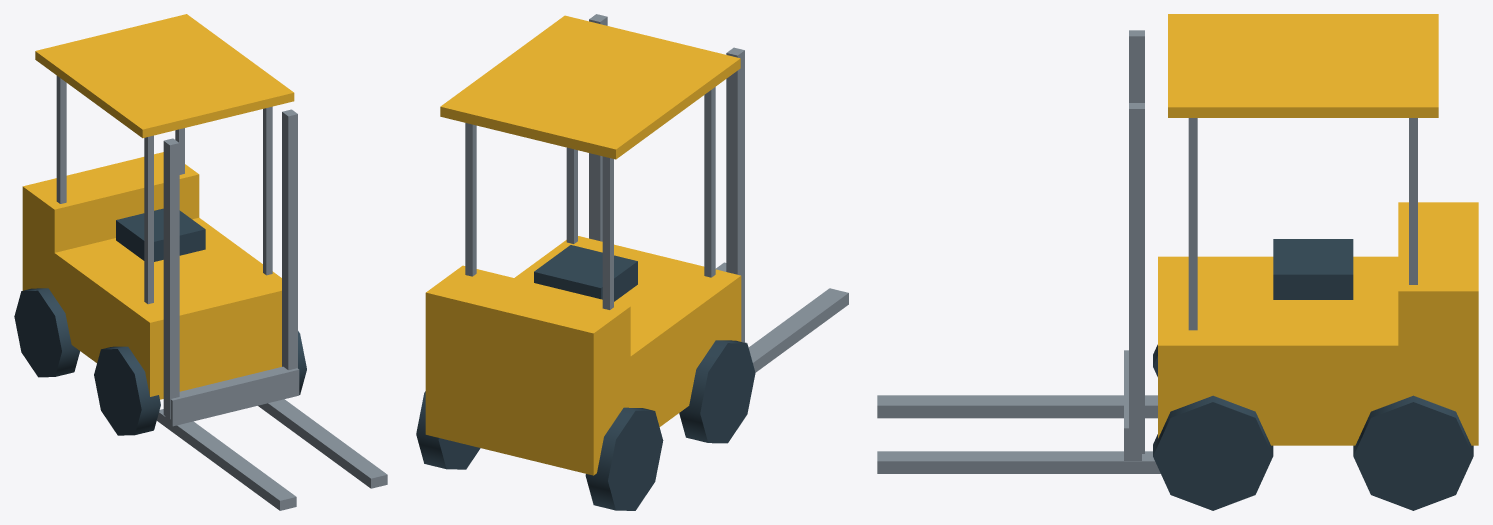
The model's file is forklift.v1.low.glb.
The picture shows the model from 3 angles, left to right: view 1: azimuth 30°, elevation 25°; view 2: azimuth 150°, elevation 25°; view 3: azimuth 270°, elevation 25°; orthographic projection. The views are drawn at different scales.
Parts seen in each view (by area): view 1: mesh_chassis, mesh_roof, mesh_counterweight, mesh_mast_-0.43, mesh_wheel_-0.53_0.1, mesh_carriage, mesh_wheel_-0.53_-0.9, mesh_mast_0.43, mesh_fork_-0.33, mesh_fork_0.33, mesh_seat, mesh_cab_post_0.43_0.2 (+2 smaller); view 2: mesh_chassis, mesh_roof, mesh_counterweight, mesh_wheel_-0.53_-0.9, mesh_wheel_-0.53_0.1, mesh_mast_-0.43, mesh_seat, mesh_fork_-0.33, mesh_cab_post_-0.43_0.2, mesh_cab_post_-0.43_-0.9, mesh_cab_post_0.43_-0.9, mesh_wheel_0.53_-0.9 (+2 smaller); view 3: mesh_chassis, mesh_roof, mesh_counterweight, mesh_wheel_0.53_0.1, mesh_wheel_0.53_-0.9, mesh_fork_-0.33, mesh_fork_0.33, mesh_mast_0.43, mesh_seat, mesh_cab_post_0.43_0.2, mesh_cab_post_0.43_-0.9, mesh_mast_-0.43.
Boxes of the visible parts, x1,y1,x2,y2 form: mesh_chassis: (22,217,281,399); mesh_roof: (35,14,294,138); mesh_counterweight: (22,152,199,274); mesh_mast_-0.43: (163,138,179,419); mesh_wheel_-0.53_0.1: (94,346,160,435); mesh_carriage: (165,366,299,426); mesh_wheel_-0.53_-0.9: (14,288,79,377); mesh_mast_0.43: (282,109,297,370); mesh_fork_-0.33: (157,409,296,510); mesh_fork_0.33: (258,399,387,488); mesh_seat: (116,208,205,261); mesh_cab_post_0.43_0.2: (263,106,272,275); mesh_chassis: (425,236,741,475); mesh_roof: (440,15,740,159); mesh_counterweight: (425,265,630,408); mesh_wheel_-0.53_-0.9: (585,407,663,510); mesh_wheel_-0.53_0.1: (679,340,755,443); mesh_mast_-0.43: (726,47,744,342); mesh_seat: (534,245,637,301); mesh_fork_-0.33: (748,288,848,372); mesh_cab_post_-0.43_0.2: (704,87,715,277); mesh_cab_post_-0.43_-0.9: (602,156,613,309); mesh_cab_post_0.43_-0.9: (465,123,476,276); mesh_wheel_0.53_-0.9: (416,391,480,469); mesh_chassis: (1158,256,1478,445); mesh_roof: (1168,14,1438,117); mesh_counterweight: (1398,202,1478,372); mesh_wheel_0.53_0.1: (1153,395,1273,510); mesh_wheel_0.53_-0.9: (1353,395,1473,510); mesh_fork_-0.33: (877,395,1157,418); mesh_fork_0.33: (877,451,1160,473); mesh_mast_0.43: (1129,103,1144,453); mesh_seat: (1273,239,1353,299); mesh_cab_post_0.43_0.2: (1188,118,1197,330); mesh_cab_post_0.43_-0.9: (1409,118,1417,284); mesh_mast_-0.43: (1129,30,1144,102).
Size of the model in its own units: 1.2 by 2.2 by 3.
